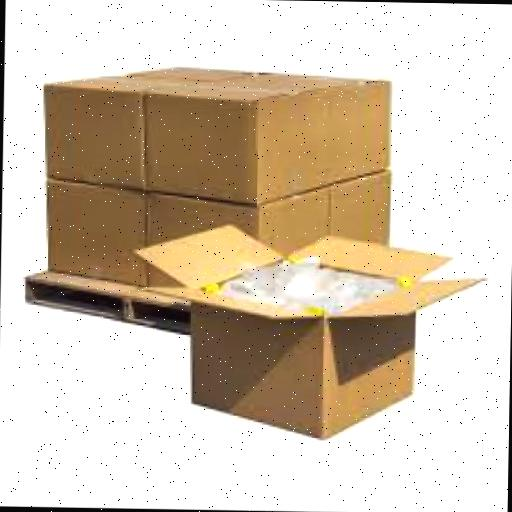cardboard: (130, 222, 490, 440), (48, 66, 397, 205), (46, 164, 390, 294)
